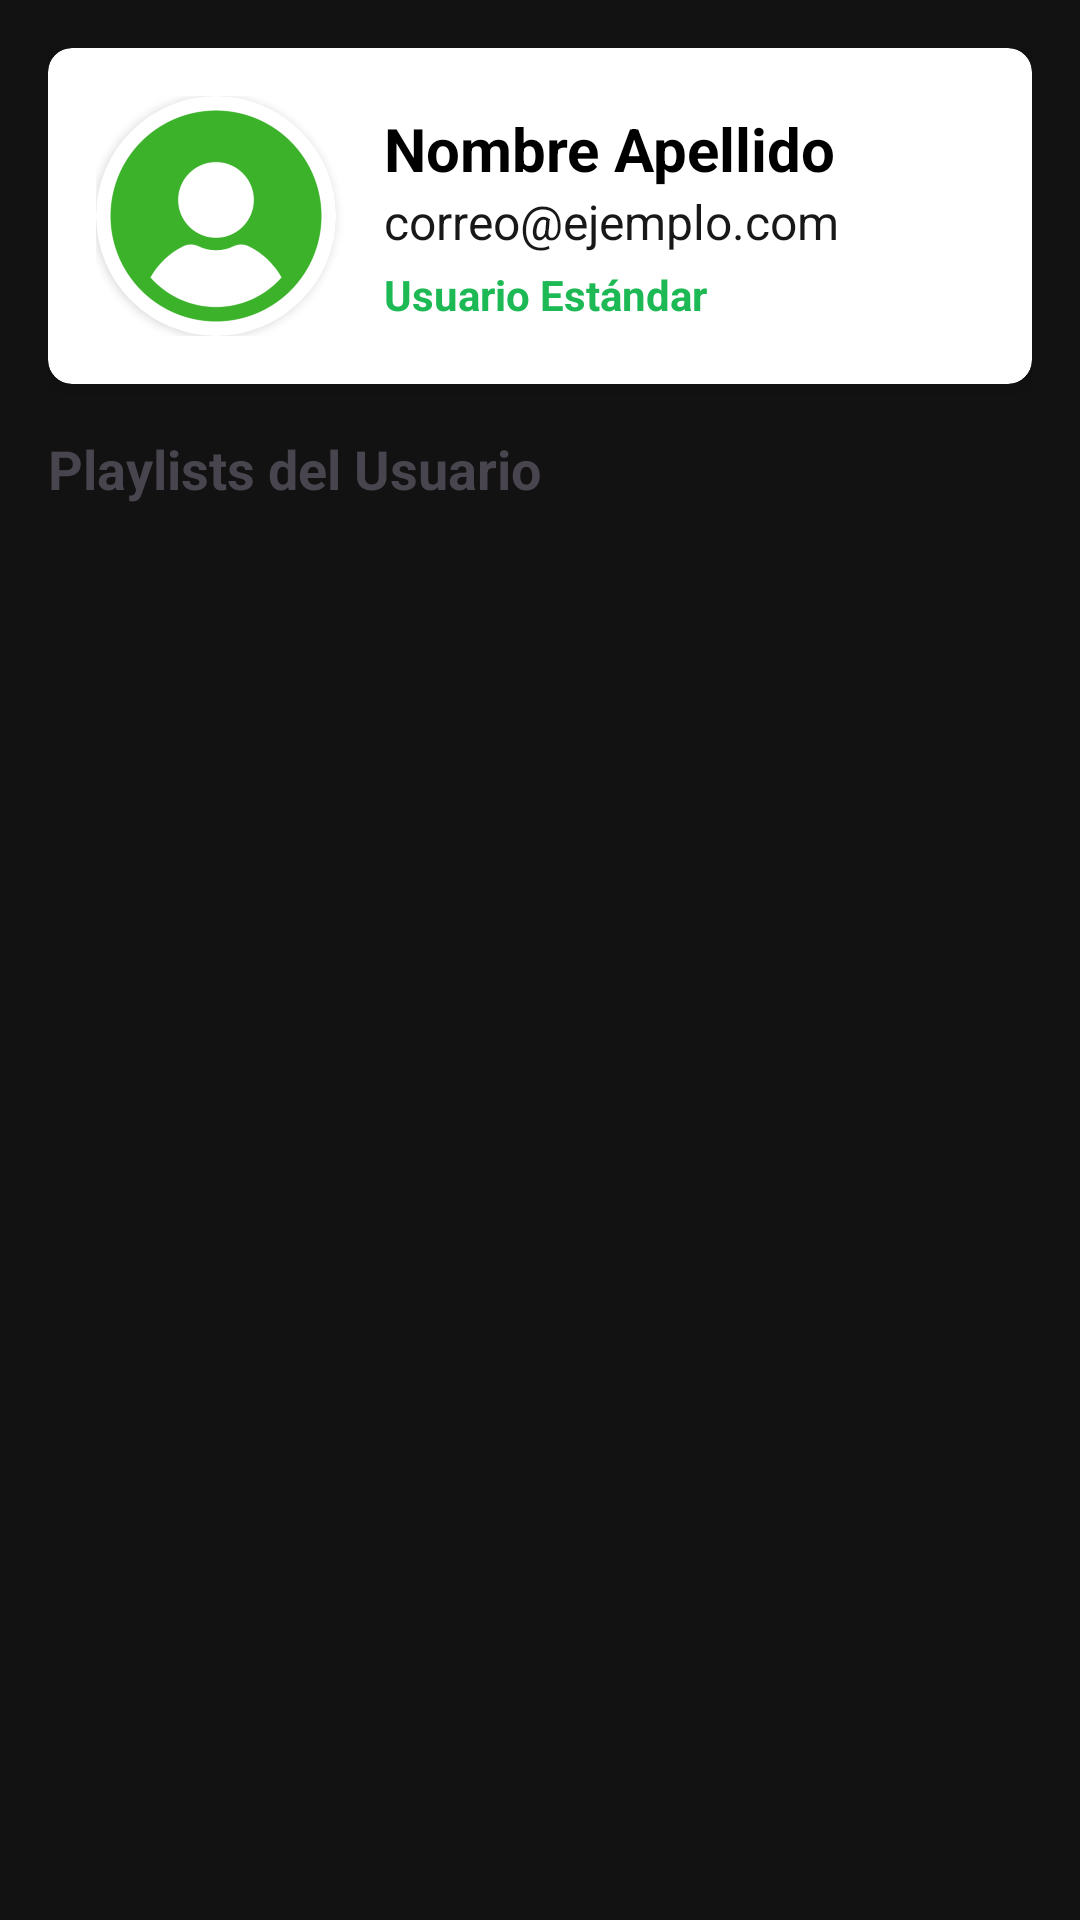

Icons on this 1080 × 1920 Android screen, each with the point to tap as (x,y):
user: (209,216)
